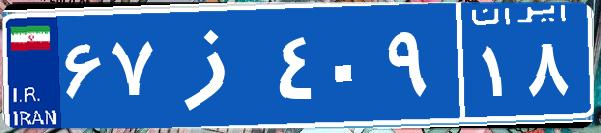0: (330, 28, 385, 110)
1: (475, 38, 525, 113)
4: (273, 28, 330, 110)
6: (57, 26, 110, 107)
7: (110, 28, 158, 105)
8: (525, 38, 570, 115)
9: (385, 28, 445, 110)
ز: (158, 15, 273, 115)
